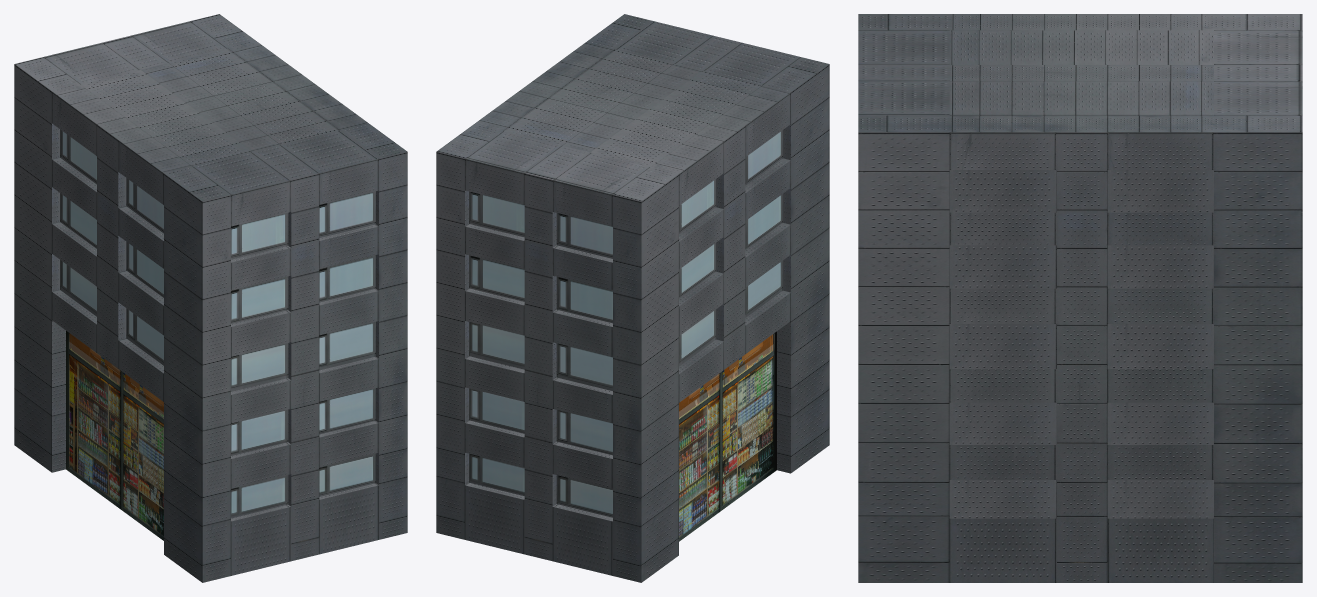
Rendered from house7.FBX.
3 views of the same model, side by side, from view 1: azimuth 30°, elevation 25°; view 2: azimuth 150°, elevation 25°; view 3: azimuth 270°, elevation 25° (orthographic). The views are drawn at different scales.
Parts seen in each view (by area): view 1: Box001; view 2: Box001; view 3: Box001.
Boxes of the visible parts, left/top/right/bottom form: Box001: left=14, top=14, right=407, bottom=582; Box001: left=436, top=14, right=829, bottom=582; Box001: left=858, top=14, right=1302, bottom=582.
Size of the model in its own units: 45 by 80 by 71.52.
